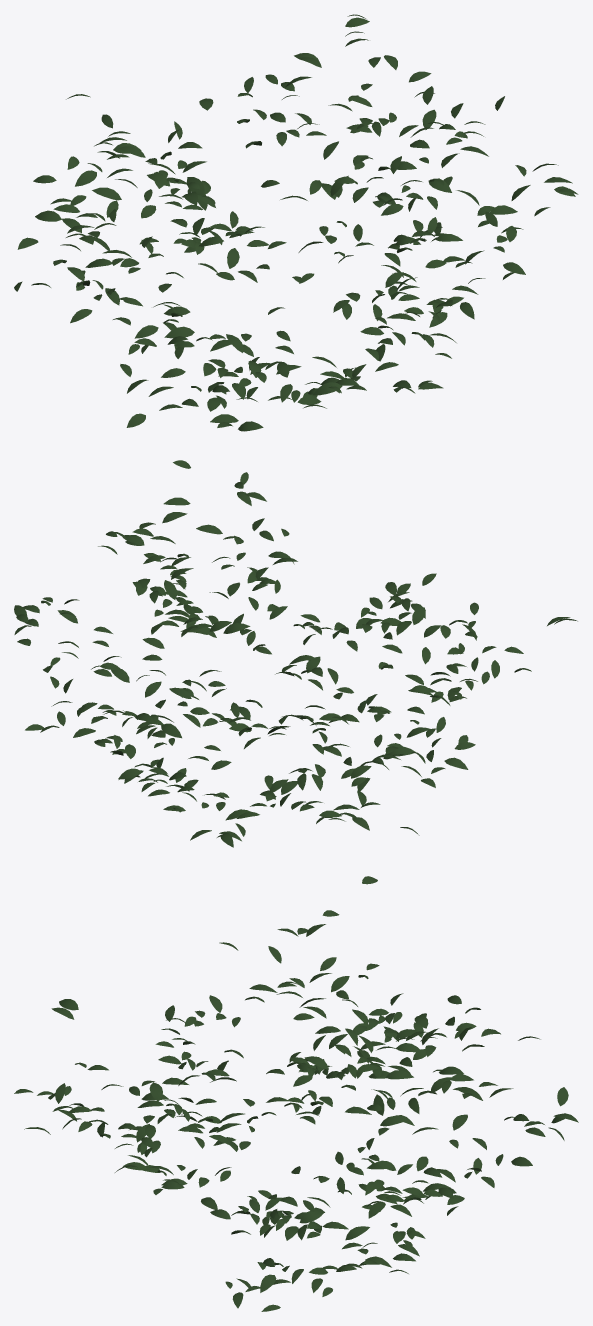
The model's file is s99-tree-foliage_deep.glb.
3 views of the same model, one above another, from view 1: azimuth 30°, elevation 25°; view 2: azimuth 150°, elevation 25°; view 3: azimuth 270°, elevation 25° (orthographic). The views are drawn at different scales.
Visible parts, largest first — view 1: s97_source_foliage_deep_mesh_model:0; view 2: s97_source_foliage_deep_mesh_model:0; view 3: s97_source_foliage_deep_mesh_model:0.
Part boxes in pixels (x1,y1,x2,y2): s97_source_foliage_deep_mesh_model:0: (14, 14, 578, 431); s97_source_foliage_deep_mesh_model:0: (14, 460, 577, 847); s97_source_foliage_deep_mesh_model:0: (14, 876, 578, 1311).
Size of the model in its own units: 3.64 by 2.16 by 3.6.
Materials: 1 (1 with a texture image).
